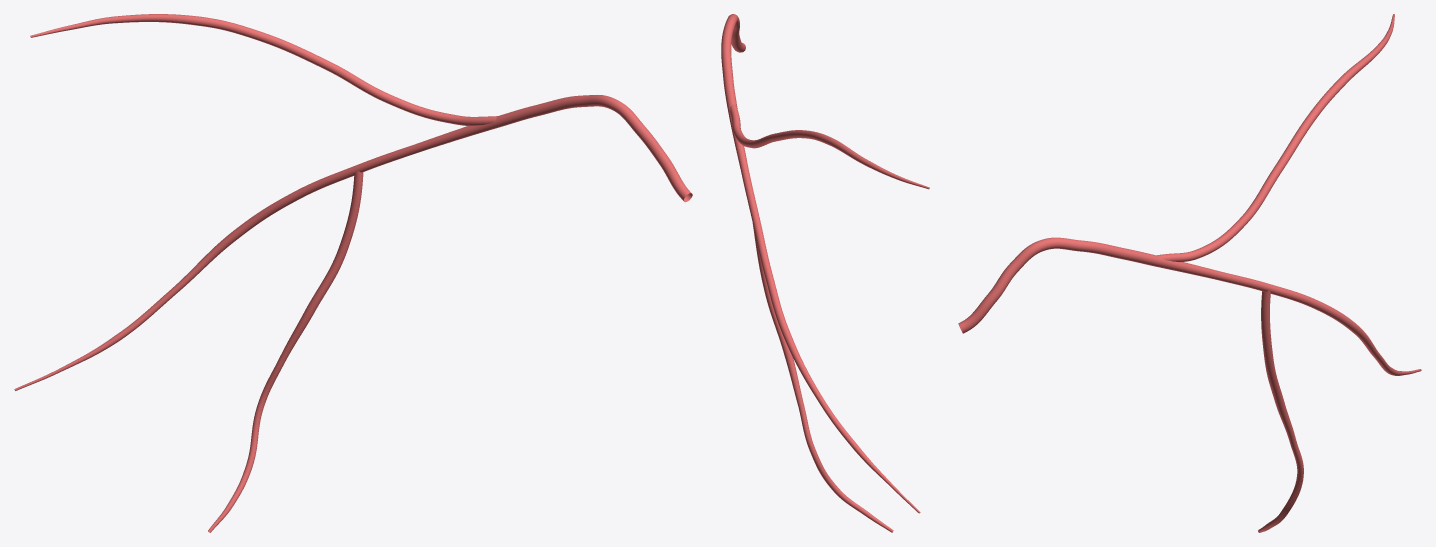
File: Temporo-occipital_branch.l_BezierCurve.236.glb
The picture shows the model from 3 angles, left to right: view 1: azimuth 30°, elevation 25°; view 2: azimuth 150°, elevation 25°; view 3: azimuth 270°, elevation 25°; orthographic projection. The views are drawn at different scales.
Visible parts, largest first — view 1: Temporo-occipital_branch.l_BezierCurve.236; view 2: Temporo-occipital_branch.l_BezierCurve.236; view 3: Temporo-occipital_branch.l_BezierCurve.236.
Boxes of the visible parts, x1=… form: Temporo-occipital_branch.l_BezierCurve.236: x1=14, y1=14, x2=692, y2=532; Temporo-occipital_branch.l_BezierCurve.236: x1=721, y1=14, x2=929, y2=532; Temporo-occipital_branch.l_BezierCurve.236: x1=958, y1=14, x2=1421, y2=532.
Size of the model in its own units: 0.0442 by 0.0456 by 0.0406.
